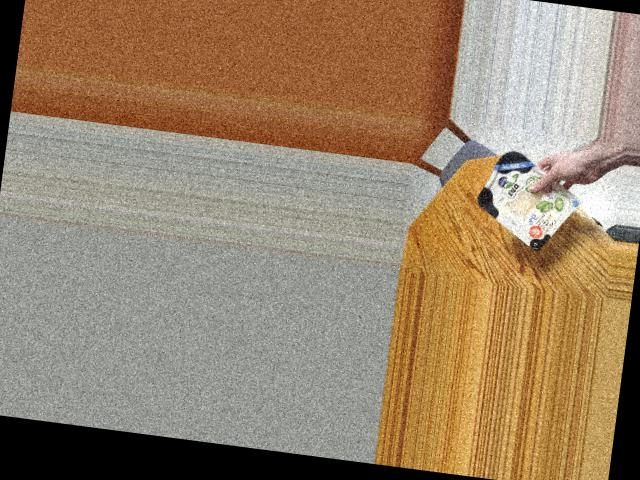cheese: (465, 146, 571, 246)
